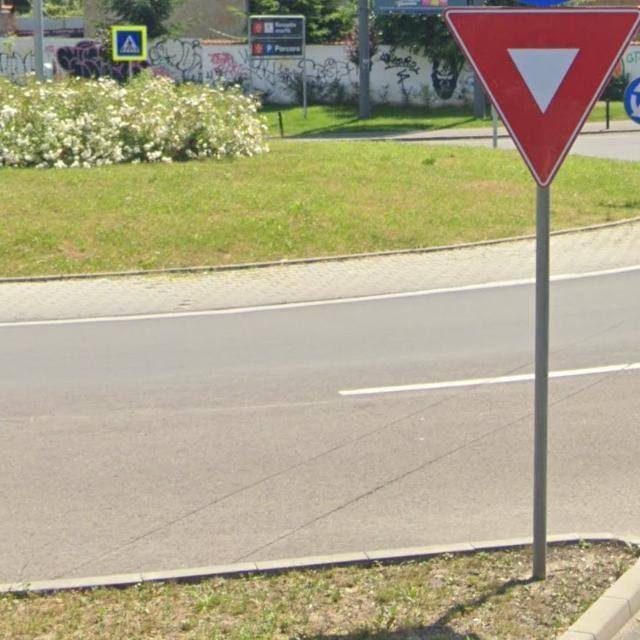info_crosswalk: (112, 25, 149, 63)
prio_give_way: (440, 7, 639, 190)
